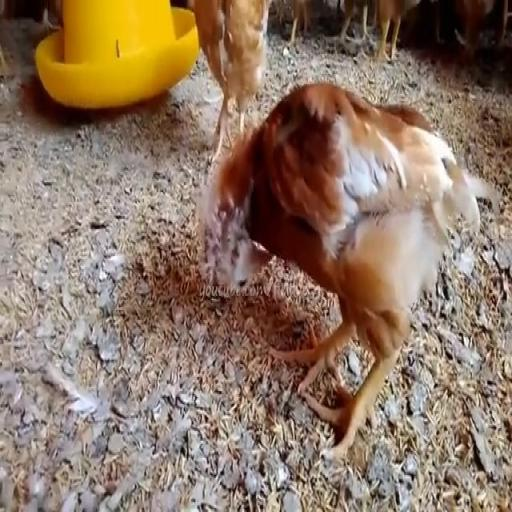disease: (204, 194, 262, 314)
